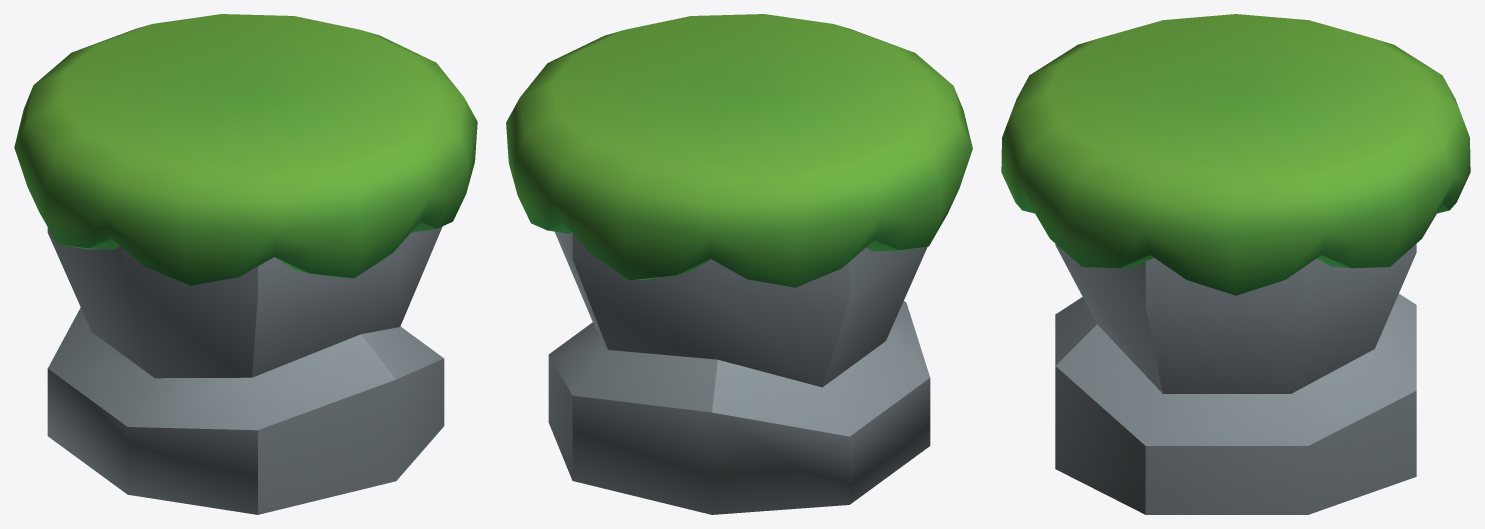
Rendered from Hill_2x2x2_Color1.gltf.
3 views of the same model, side by side, from view 1: azimuth 30°, elevation 25°; view 2: azimuth 150°, elevation 25°; view 3: azimuth 270°, elevation 25° (orthographic).
Parts seen in each view (by area): view 1: Hill_2x2x2_Color1; view 2: Hill_2x2x2_Color1; view 3: Hill_2x2x2_Color1.
Part boxes in pixels (x1,y1,x2,y2): Hill_2x2x2_Color1: [14, 14, 477, 514]; Hill_2x2x2_Color1: [506, 14, 972, 514]; Hill_2x2x2_Color1: [1001, 14, 1470, 514].
Bounding box in the file's own units: 2.47 × 2 × 2.47.
1 material, 1 textured.
